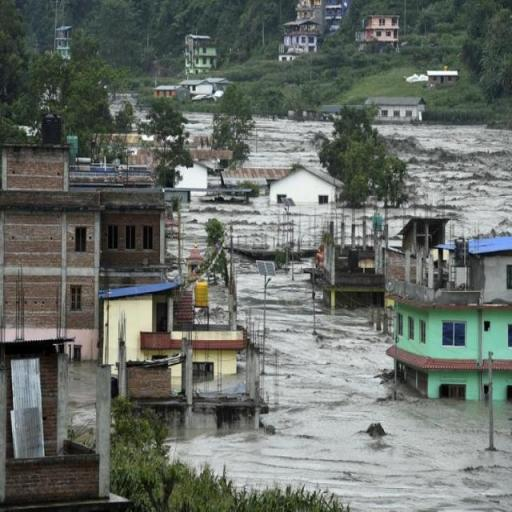flood: (171, 263, 512, 512), (378, 125, 512, 237), (182, 197, 282, 248), (244, 117, 333, 168), (288, 209, 384, 243), (71, 364, 94, 426), (238, 267, 263, 321), (109, 91, 147, 123), (186, 111, 213, 141), (137, 106, 146, 118)
house: (383, 287, 486, 389), (8, 352, 62, 458), (92, 198, 164, 266), (261, 162, 346, 212), (480, 252, 512, 305), (168, 152, 212, 190), (368, 93, 425, 122), (284, 19, 317, 56), (364, 14, 402, 44), (183, 35, 215, 68), (426, 67, 459, 87), (56, 22, 70, 56)
